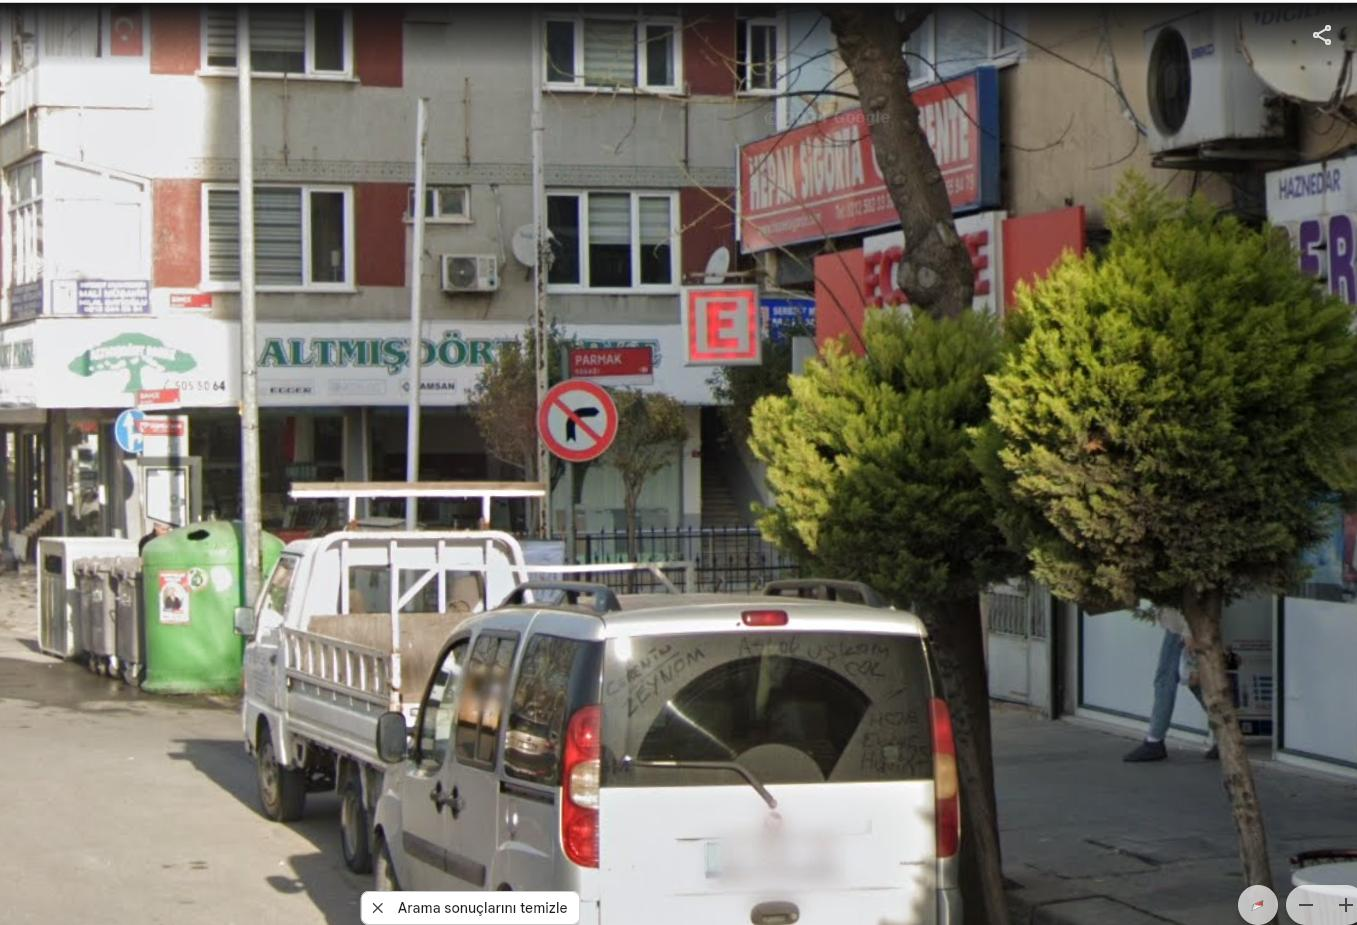rightturnsareforbidden: (540, 381, 616, 457)
